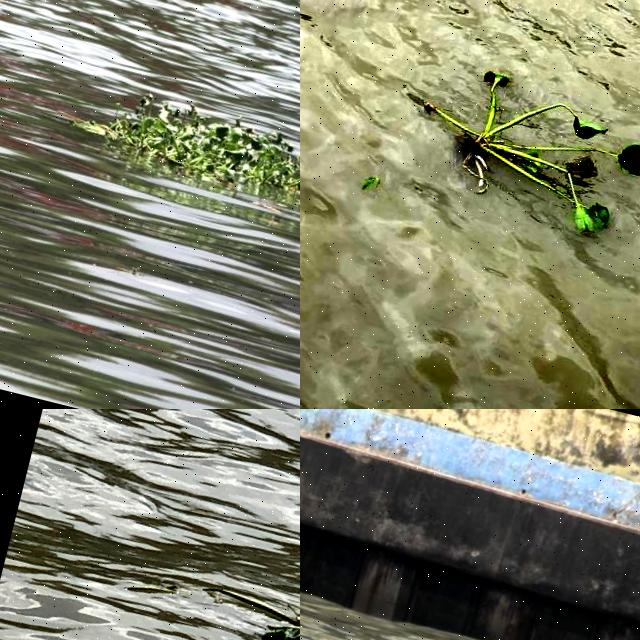water-hyacinth: (391, 44, 640, 243), (80, 73, 301, 209)
